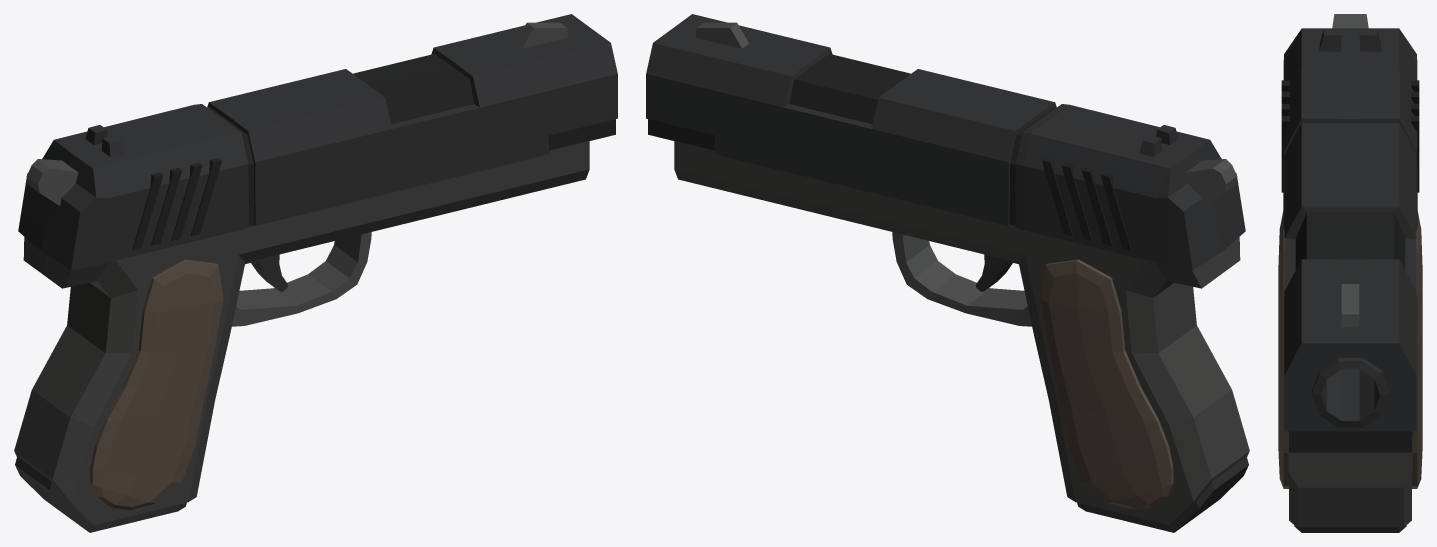
Rendered from Pistol_1.gltf.
3 renders of one model, left to right at view 1: azimuth 30°, elevation 25°; view 2: azimuth 150°, elevation 25°; view 3: azimuth 270°, elevation 25°, orthographic. The views are drawn at different scales.
Parts seen in each view (by area): view 1: Pistol_1; view 2: Pistol_1; view 3: Pistol_1.
Boxes of the visible parts, x1,y1,x2,y2 form: Pistol_1: [14, 14, 617, 532]; Pistol_1: [646, 14, 1249, 532]; Pistol_1: [1278, 14, 1422, 532].
Size of the model in its own units: 1.82 by 1.16 by 0.3232.
